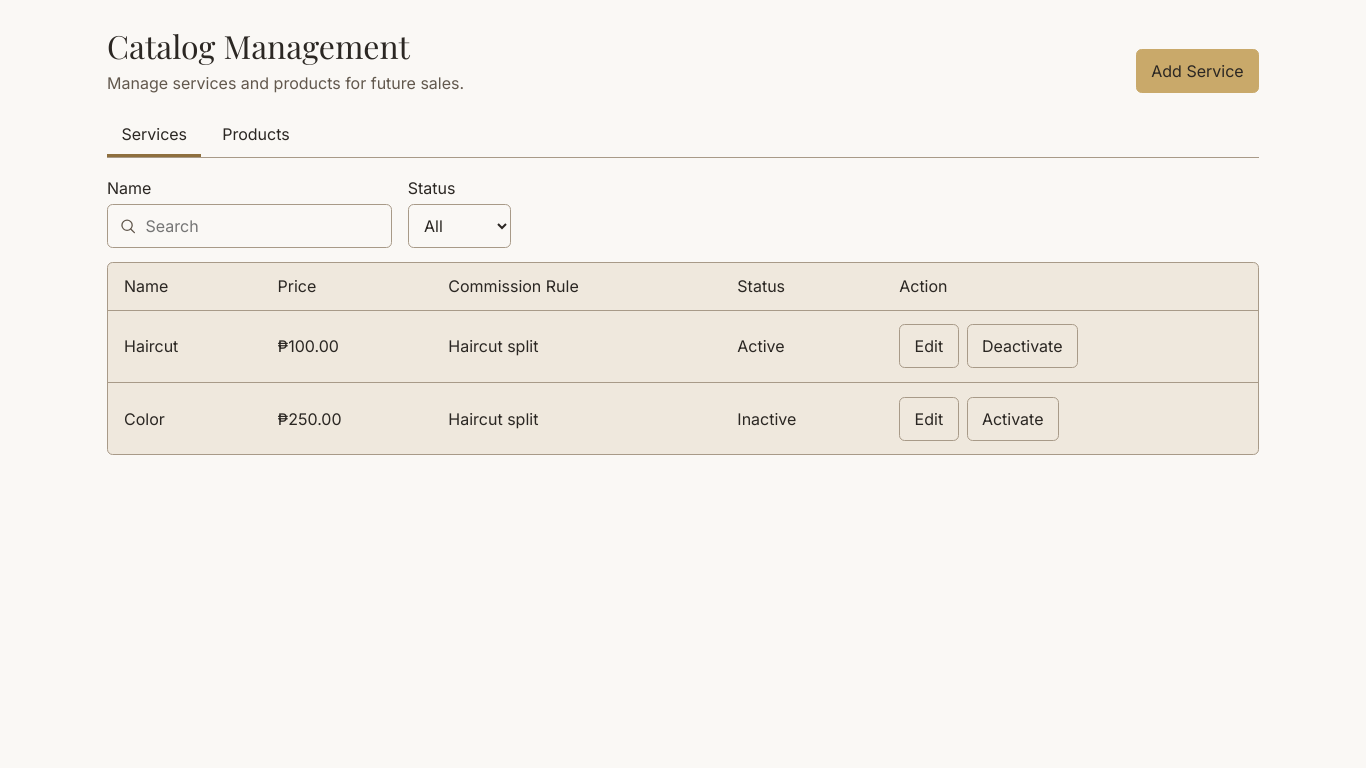
edits products without Service-only fields and sends only changed configuration
Check: the text "Haircut" is shown, box [108,310,262,382]
Click the button "Products".
click(256, 135)  # box [208,113,304,157]
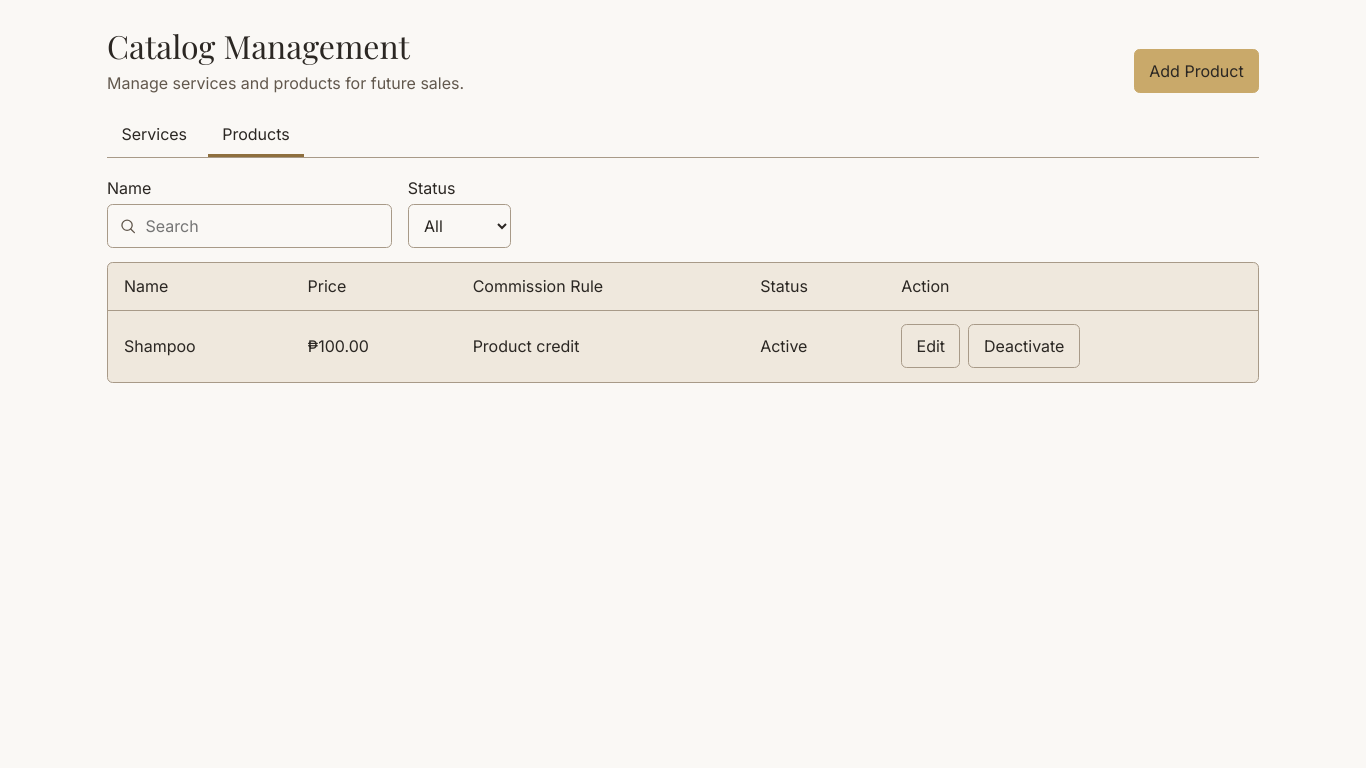
Click the button with aria-label "Edit Shampoo".
click(931, 346)  # box [901,324,960,368]
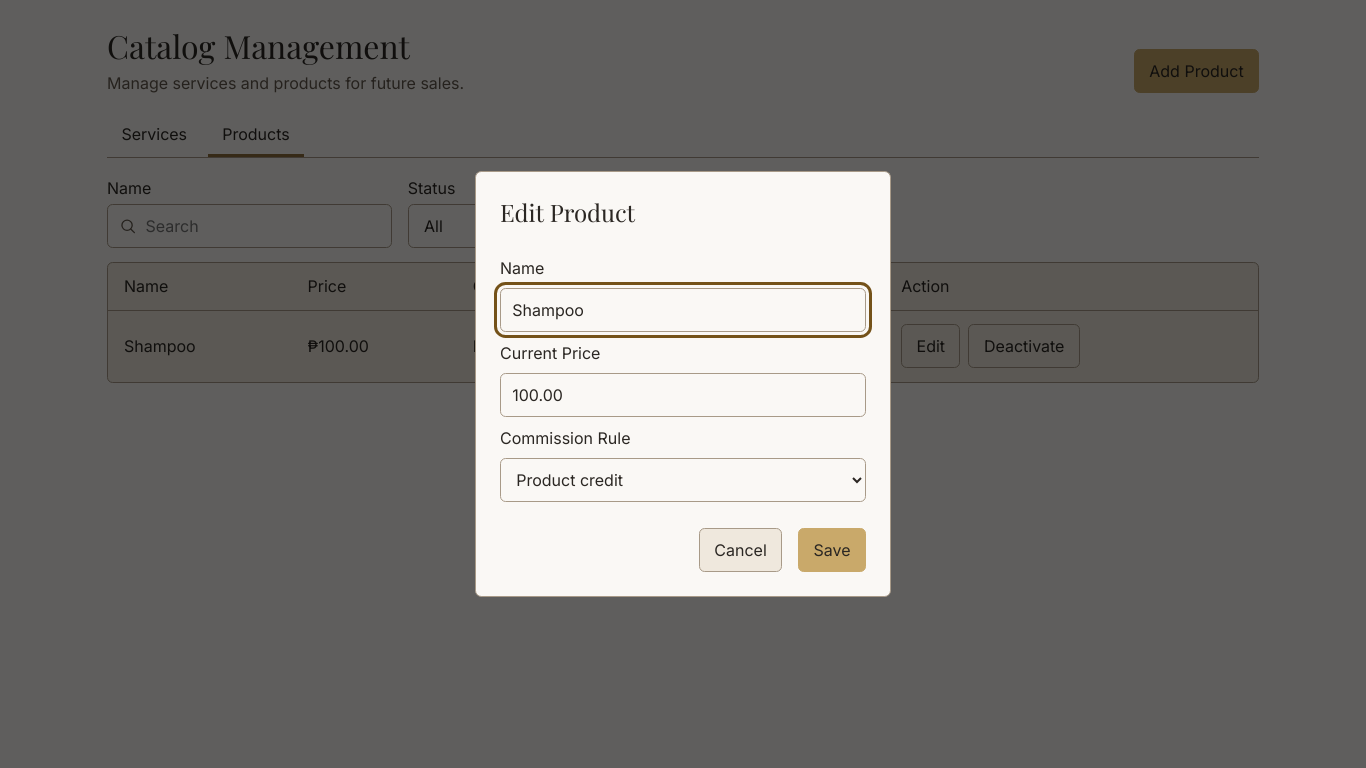
Check: the dialog "Edit Product" is shown, box [475,171,891,597]
Replace the text in the field labelled "Current Price" with "125.00" at (683, 395), box [500,373,866,417]
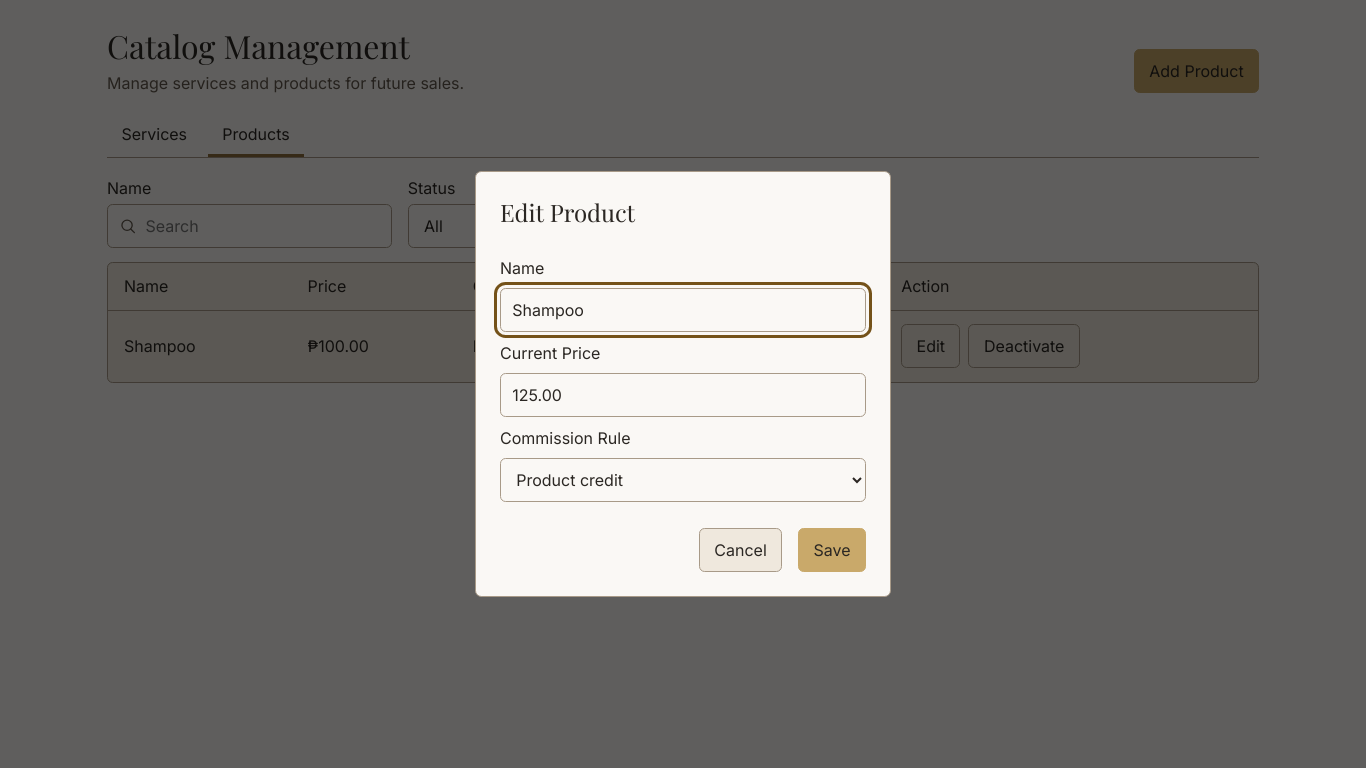
Click the button "Save".
click(832, 550)  # box [798,528,866,572]
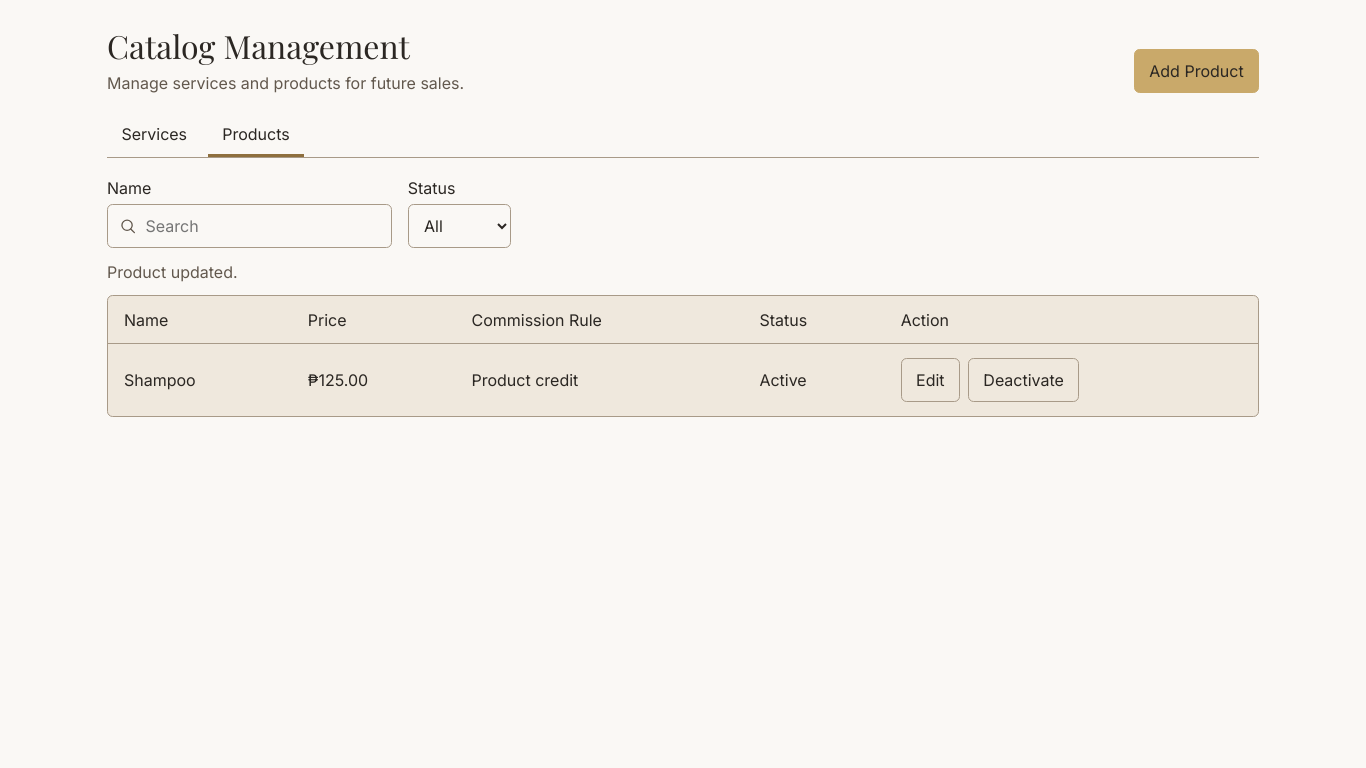
Check: the text "₱125.00" is shown, box [292,344,456,416]
